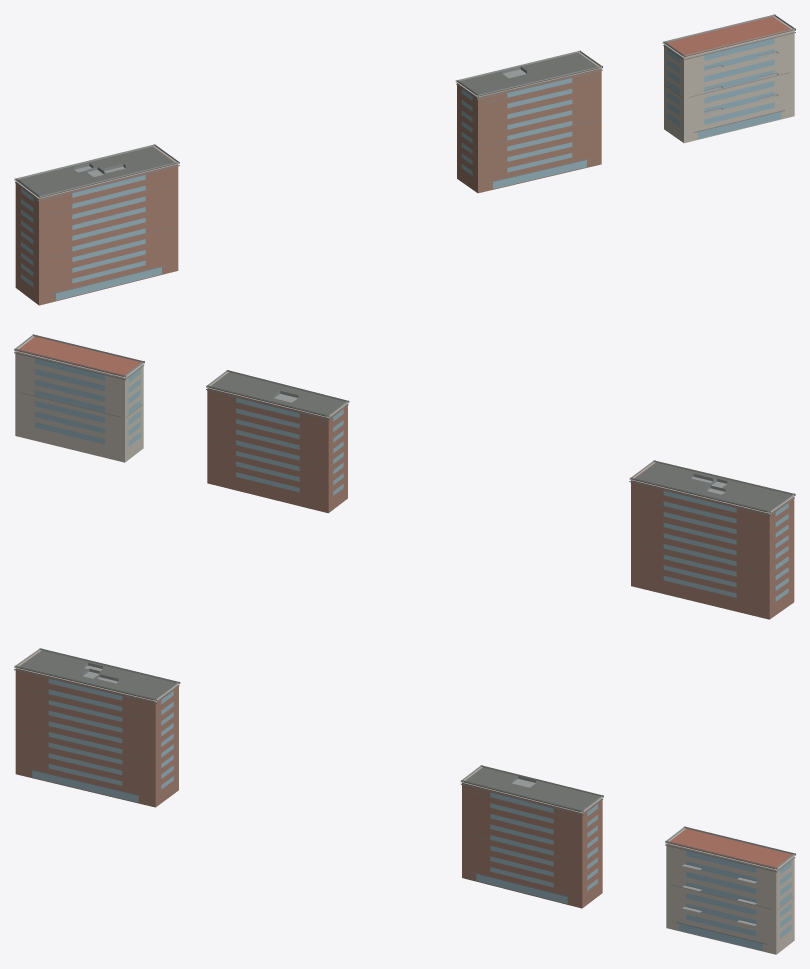
Rendered from tile-p001-p003.glb.
3 views of the same model, one above another, from view 1: azimuth 30°, elevation 25°; view 2: azimuth 150°, elevation 25°; view 3: azimuth 330°, elevation 25° (orthographic).
Visible parts, largest first — view 1: building-0858-mesh-0, building-0967-mesh-6, building-1035-mesh-12, building-0858-mesh-1, building-1035-mesh-13, building-0967-mesh-7, building-0858-mesh-3, building-0967-mesh-9, building-1035-mesh-16, building-0858-mesh-4, building-0967-mesh-10, building-0858-mesh-2 (+2 smaller); view 2: building-0858-mesh-0, building-0967-mesh-6, building-1035-mesh-12, building-0858-mesh-1, building-1035-mesh-13, building-0967-mesh-7, building-0858-mesh-3, building-0967-mesh-9, building-1035-mesh-16, building-0858-mesh-4, building-0967-mesh-10, building-1035-mesh-17 (+2 smaller); view 3: building-0858-mesh-0, building-0967-mesh-6, building-1035-mesh-12, building-0858-mesh-1, building-1035-mesh-13, building-0967-mesh-7, building-0858-mesh-3, building-0967-mesh-9, building-1035-mesh-16, building-0858-mesh-4, building-0967-mesh-10, building-0858-mesh-2 (+2 smaller).
Boxes of the visible parts, box(x1,y1,x2,y2) form: building-0858-mesh-0: box(15, 147, 178, 305); building-0967-mesh-6: box(457, 53, 601, 193); building-1035-mesh-12: box(664, 17, 794, 143); building-0858-mesh-1: box(21, 175, 161, 300); building-1035-mesh-13: box(667, 38, 781, 138); building-0967-mesh-7: box(461, 78, 586, 188); building-0858-mesh-3: box(18, 146, 175, 197); building-0967-mesh-9: box(459, 53, 598, 96); building-1035-mesh-16: box(666, 16, 792, 56); building-0858-mesh-4: box(14, 144, 179, 198); building-0967-mesh-10: box(455, 50, 602, 97); building-0858-mesh-2: box(15, 165, 179, 294); building-0858-mesh-0: box(631, 463, 794, 619); building-0967-mesh-6: box(207, 373, 347, 513); building-1035-mesh-12: box(15, 337, 143, 462); building-0858-mesh-1: box(663, 491, 788, 601); building-1035-mesh-13: box(35, 358, 140, 446); building-0967-mesh-7: box(236, 397, 343, 495); building-0858-mesh-3: box(633, 462, 791, 512); building-0967-mesh-9: box(209, 372, 345, 416); building-1035-mesh-16: box(17, 336, 141, 376); building-0858-mesh-4: box(629, 460, 795, 513); building-0967-mesh-10: box(206, 370, 349, 417); building-1035-mesh-17: box(14, 334, 144, 377); building-0858-mesh-0: box(15, 651, 178, 807); building-0967-mesh-6: box(462, 768, 602, 908); building-1035-mesh-12: box(666, 829, 794, 954); building-0858-mesh-1: box(32, 679, 173, 802); building-1035-mesh-13: box(679, 850, 791, 950); building-0967-mesh-7: box(476, 792, 597, 903); building-0858-mesh-3: box(18, 650, 176, 700); building-0967-mesh-9: box(464, 767, 600, 811); building-1035-mesh-16: box(668, 828, 792, 868); building-0858-mesh-4: box(14, 648, 180, 701); building-0967-mesh-10: box(460, 765, 603, 813); building-0858-mesh-2: box(14, 669, 179, 796).
Size of the model in its own units: 250 by 34.95 by 15.1.
